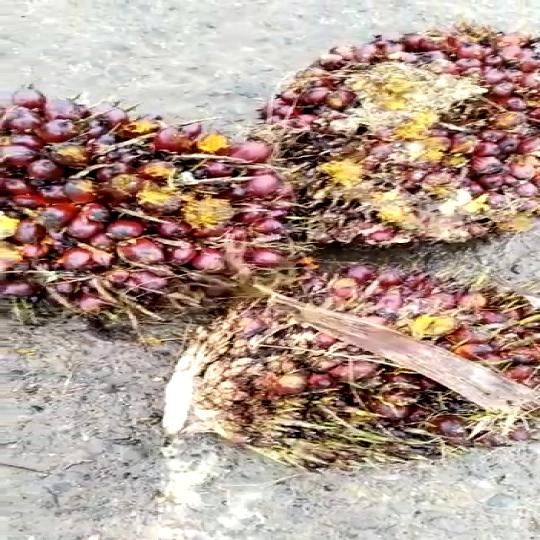masak: (126, 269, 540, 485), (0, 92, 310, 338), (225, 33, 540, 243)
